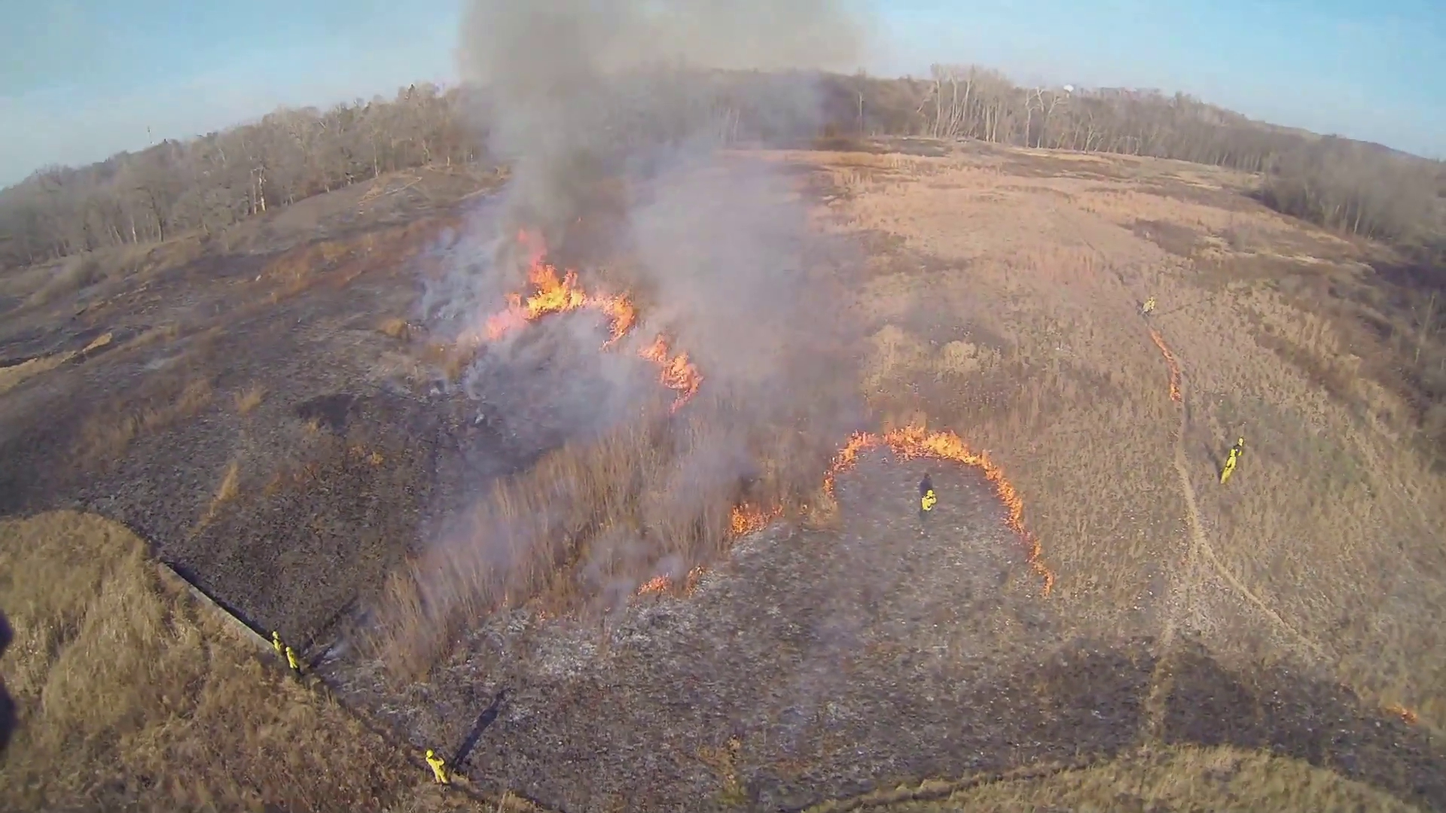forest_fire: (823, 424, 1054, 594), (459, 230, 637, 349), (636, 333, 703, 413), (1151, 328, 1182, 402), (731, 504, 772, 534)
